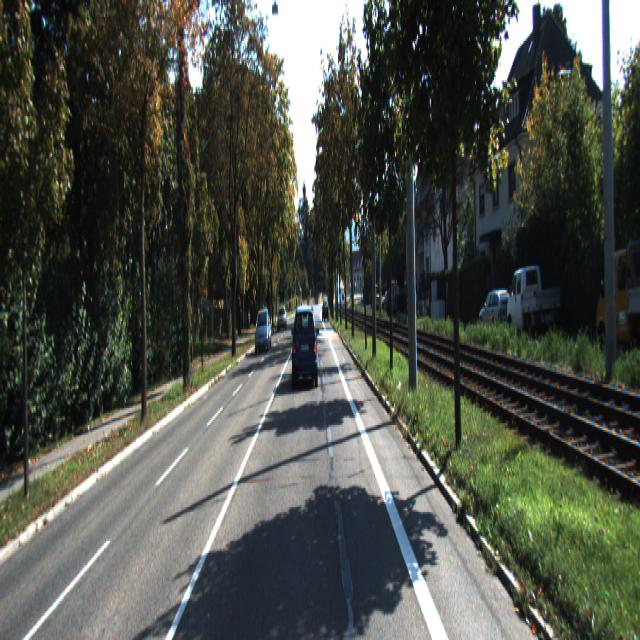Car: (594, 236, 640, 355), (505, 261, 560, 335), (292, 303, 319, 390), (479, 287, 514, 333), (255, 308, 271, 354), (277, 306, 287, 331)
